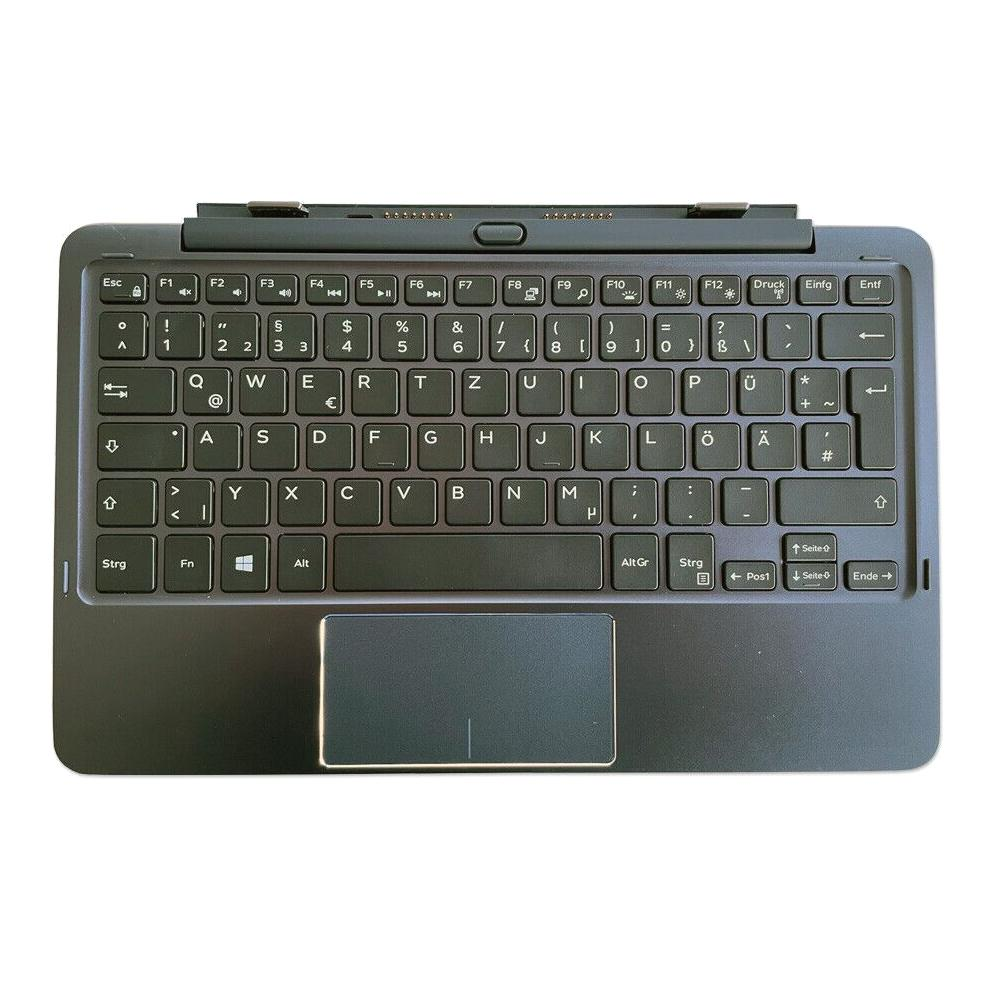0: (651, 311, 701, 360)
1: (152, 309, 202, 358)
2: (208, 309, 259, 358)
3: (264, 309, 315, 359)
4: (322, 309, 371, 359)
5: (377, 310, 427, 359)
6: (432, 310, 482, 359)
7: (487, 311, 536, 360)
8: (541, 311, 590, 360)
9: (596, 310, 646, 360)
a: (191, 419, 241, 470)
accent: (762, 310, 811, 358)
ae: (746, 419, 795, 469)
alt-left: (275, 531, 326, 591)
altgr-right: (609, 530, 659, 590)
b: (441, 475, 491, 525)
c: (331, 475, 381, 525)
caret: (96, 309, 146, 357)
comma: (608, 474, 657, 524)
d: (304, 420, 353, 470)
del: (818, 309, 895, 358)
e: (293, 364, 343, 415)
enter: (846, 364, 895, 469)
f: (359, 420, 408, 469)
g: (415, 420, 463, 470)
h: (470, 420, 519, 469)
hash: (801, 419, 850, 468)
i: (569, 365, 618, 414)
j: (525, 420, 573, 469)
k: (580, 419, 629, 470)
keyboard: (71, 258, 916, 606)
l: (635, 420, 684, 469)
less: (162, 474, 213, 527)
m: (552, 474, 602, 525)
minus: (718, 474, 768, 523)
n: (497, 475, 546, 525)
o: (623, 365, 673, 415)
oe: (690, 420, 740, 469)
p: (679, 365, 728, 414)
plus: (790, 364, 839, 414)
point: (664, 474, 714, 523)
q: (180, 364, 231, 414)
r: (349, 365, 398, 415)
s: (247, 419, 297, 470)
shift-left: (92, 474, 155, 526)
shift-lock: (94, 418, 185, 469)
shift-right: (775, 473, 896, 524)
space: (332, 529, 601, 591), (176, 217, 506, 248)
ss: (706, 310, 756, 359)
strg-left: (91, 530, 155, 593)
strg-right: (664, 530, 715, 590)
t: (404, 365, 453, 415)
tab: (95, 362, 173, 414)
u: (514, 365, 562, 415)
ue: (735, 365, 784, 415)
v: (387, 475, 436, 525)
w: (237, 364, 286, 414)
x: (275, 474, 325, 525)
y: (219, 475, 269, 526)
z: (460, 365, 508, 415)
